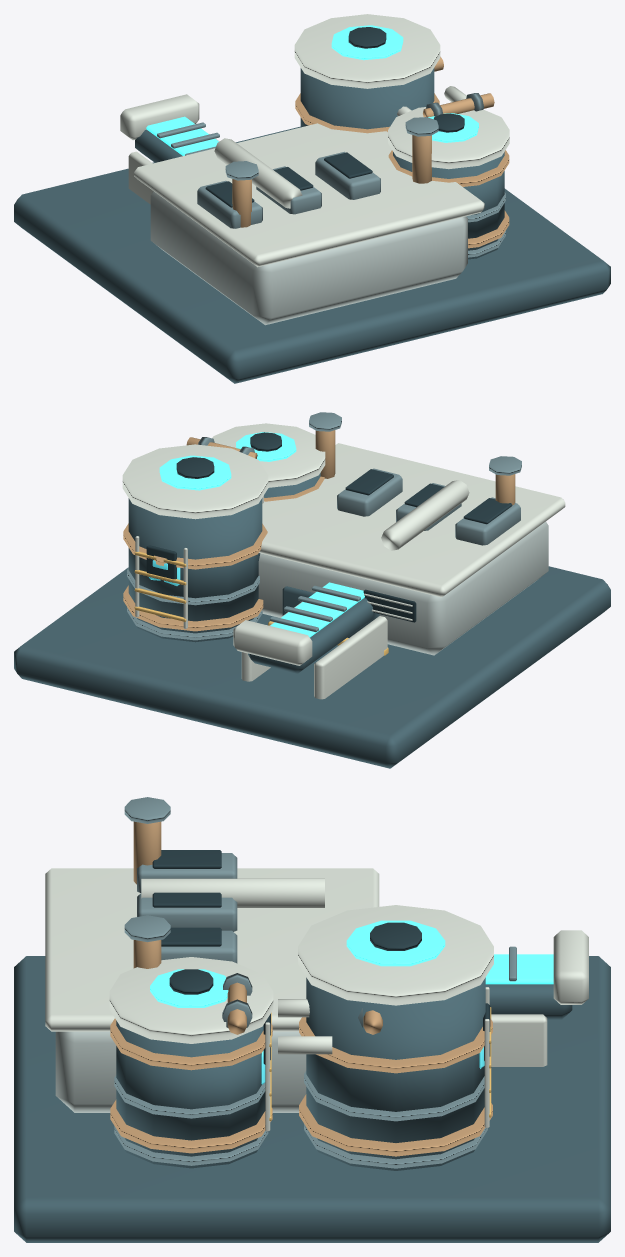
Rendered from refinery.glb.
3 renders of one model, top to bottom at view 1: azimuth 30°, elevation 25°; view 2: azimuth 150°, elevation 25°; view 3: azimuth 270°, elevation 25°, orthographic. The views are drawn at different scales.
Parts seen in each view (by area): view 1: Refinery slab, Processing hall roof, Processing hall, Vessel pressure band, Pressure manifold riser, Vessel status cap, Vessel hatch; view 2: Refinery slab, Processing hall roof, Processing hall, Vessel pressure band, Pressure manifold riser, Vessel hatch, Vessel status cap, Vessel ladder rung; view 3: Refinery slab, Processing hall roof, Vessel pressure band, Pressure manifold riser, Processing hall, Vessel hatch, Vessel status cap.
Boxes of the visible parts, x1,y1,x2,y2 form: Refinery slab: [14, 68, 610, 383]; Processing hall roof: [120, 14, 509, 267]; Processing hall: [150, 191, 467, 325]; Vessel pressure band: [157, 93, 505, 257]; Pressure manifold riser: [232, 56, 509, 248]; Vessel status cap: [146, 25, 478, 155]; Vessel hatch: [205, 27, 464, 207]; Refinery slab: [14, 473, 610, 768]; Processing hall roof: [122, 423, 565, 699]; Processing hall: [258, 521, 548, 655]; Vessel pressure band: [127, 412, 521, 640]; Pressure manifold riser: [123, 430, 515, 631]; Vessel hatch: [146, 432, 512, 622]; Vessel status cap: [159, 432, 364, 637]; Vessel ladder rung: [134, 551, 388, 655]; Refinery slab: [14, 956, 610, 1242]; Processing hall roof: [45, 868, 588, 1131]; Vessel pressure band: [114, 797, 516, 1168]; Pressure manifold riser: [110, 821, 492, 1156]; Processing hall: [55, 1031, 306, 1112]; Vessel hatch: [152, 850, 490, 1064]; Vessel status cap: [150, 920, 553, 1007].
Size of the model in its own units: 2.86 by 1.3 by 2.86.
